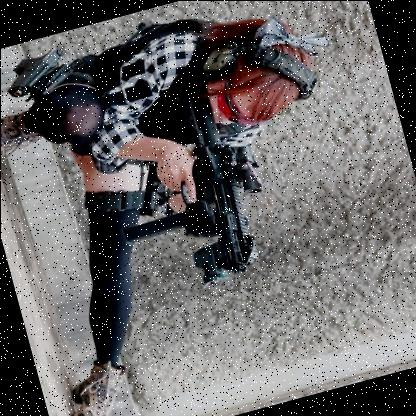rifle: (81, 61, 281, 306), (0, 41, 80, 106)
